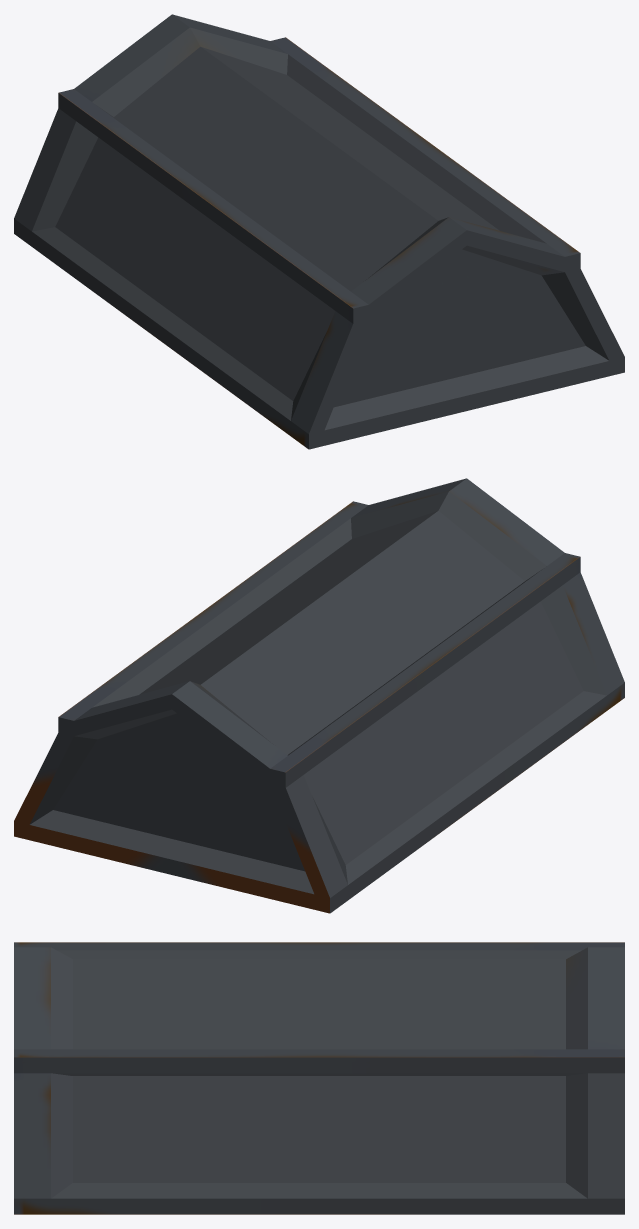
The model's file is CheatCap.obj.
3 views of the same model, one above another, from view 1: azimuth 30°, elevation 25°; view 2: azimuth 150°, elevation 25°; view 3: azimuth 270°, elevation 25° (orthographic). The views are drawn at different scales.
Parts seen in each view (by area): view 1: Cube.002; view 2: Cube.002; view 3: Cube.002.
Part boxes in pixels (x1,y1,x2,y2): Cube.002: (14, 14, 624, 449); Cube.002: (14, 478, 624, 913); Cube.002: (14, 942, 624, 1214).
Bounding box in the file's own units: 1.41 × 0.7734 × 2.29.
